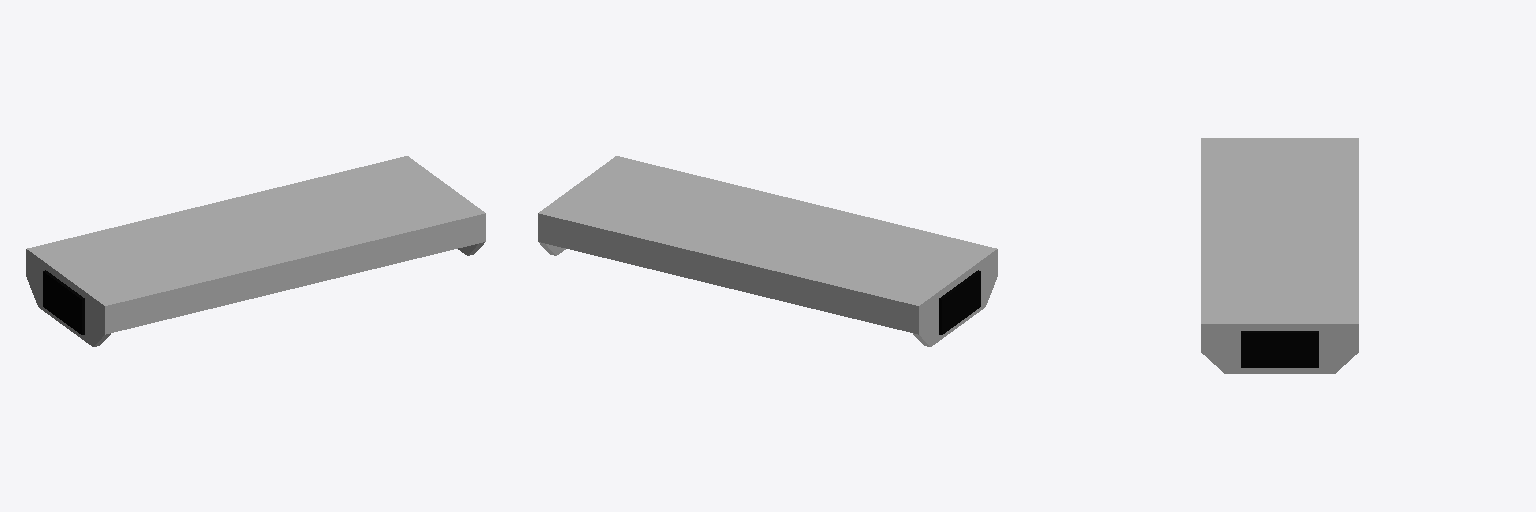
Rendered from coollightsbyantbutnotbroken.obj.
The picture shows the model from 3 angles: view 1: azimuth 30°, elevation 25°; view 2: azimuth 150°, elevation 25°; view 3: azimuth 270°, elevation 25°; orthographic projection.
Parts seen in each view (by area): view 1: NeonFrame1, Union1; view 2: NeonFrame1, Union1; view 3: NeonFrame1, Union1.
Boxes of the visible parts, x1=… form: NeonFrame1: x1=26, y1=156, x2=485, y2=346; Union1: x1=43, y1=270, x2=84, y2=334; NeonFrame1: x1=538, y1=156, x2=997, y2=346; Union1: x1=939, y1=270, x2=980, y2=334; NeonFrame1: x1=1201, y1=138, x2=1358, y2=373; Union1: x1=1241, y1=331, x2=1318, y2=367.
Size of the model in its own units: 5.69 by 0.7 by 2.